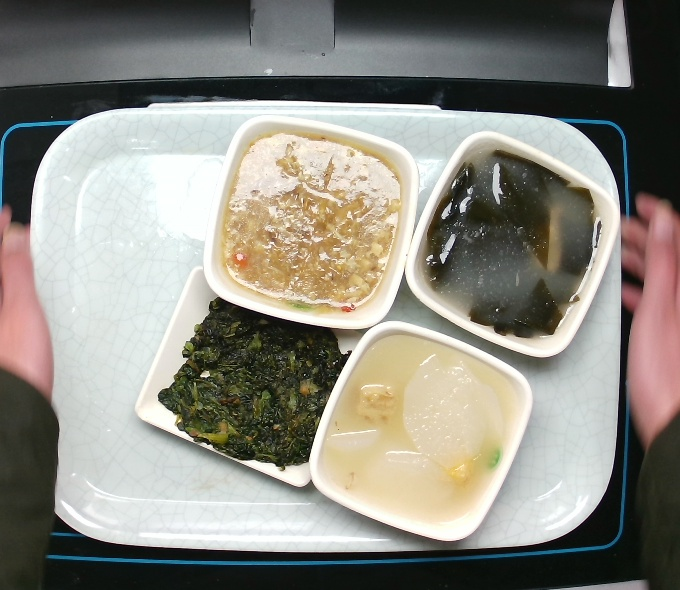wcq-HaiDaiPaiGuTang: (420, 148, 605, 350)
wcq-LuoBoYouPaoTang: (320, 333, 525, 536)
wcq-QinCaiBing: (162, 294, 355, 473)
wcq-SuanLaGeng: (222, 127, 405, 312)
